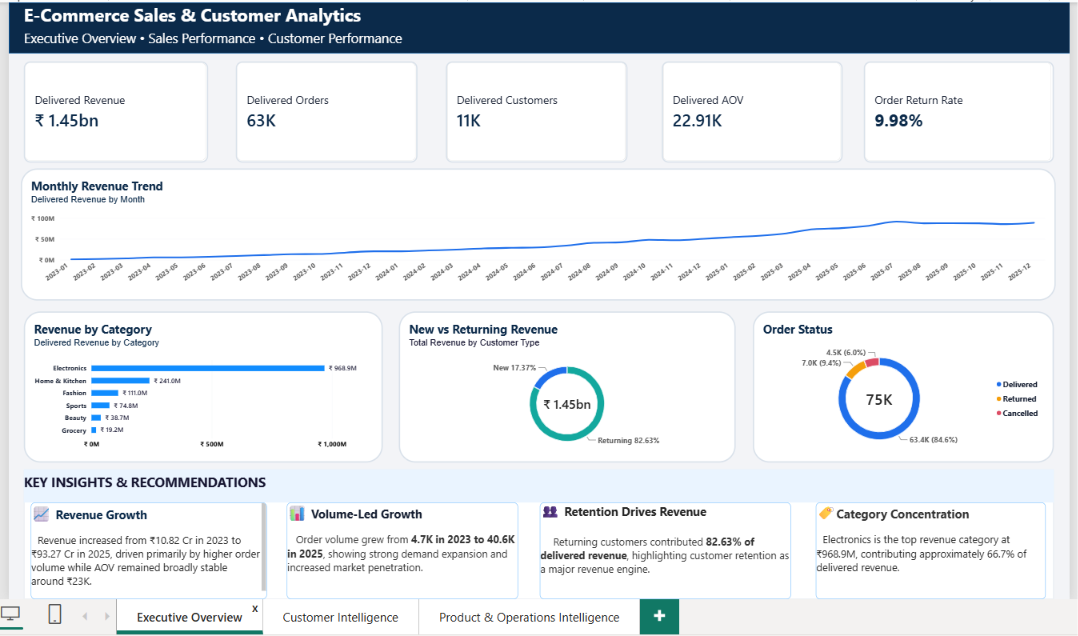

What the dashboard file says about the page in this screenshot:
{"tool":"powerbi","page":{"name":"Executive Overview","canvas":[1920,1080],"ordinal":0},"visuals":[{"type":"lineChart","title":"Monthly Revenue Trend","fields":{"Category":["DateTable.Year Month"],"Y":["public orders.Total Revenue"]},"box":[21.7,300.4,1873,238.9],"z":0},{"type":"clusteredBarChart","title":"Revenue by Category","fields":{"Category":["public products.category"],"Y":["public orders.Total Revenue"]},"box":[27.1,559.2,649.7,273.3],"z":1000},{"type":"donutChart","title":"New vs Returning Revenue","fields":{"Category":["public orders.Customer Type"],"Y":["public orders.Total Revenue"]},"box":[705.8,559.2,609.9,273.3],"z":2000},{"type":"donutChart","title":"Order Status","fields":{"Category":["public orders.order_status"],"Y":["CountNonNull(public orders.order_id)"]},"box":[1346.4,559.2,544.7,273.3],"z":3000},{"type":"cardVisual","fields":{"Data":["public orders.Total Revenue"]},"box":[26.6,106.6,333.3,183.3],"z":4000},{"type":"cardVisual","fields":{"Data":["public orders.Total Orders"]},"box":[410.5,106.6,329.1,183.3],"z":5000},{"type":"cardVisual","fields":{"Data":["public orders.Total Customers"]},"box":[790.1,106.6,329.1,183.3],"z":6000},{"type":"cardVisual","fields":{"Data":["public orders.Average Order Value"]},"box":[1181.7,106.8,327,183.3],"z":7000},{"type":"cardVisual","fields":{"Data":["public orders.Return Rate"]},"box":[1547.4,106.6,343.7,183.3],"z":8000},{"type":"shape","box":[0,0,1920.4,92.2],"z":9000},{"type":"textbox","box":[26.6,0,705,92.2],"z":10000},{"type":"shape","box":[27.1,845.1,1864,235.3],"z":11000},{"type":"textbox","box":[27.1,845.1,1864,59.7],"z":12000},{"type":"textbox","box":[39.8,904.8,360.1,175.5],"z":13000},{"type":"textbox","box":[39.8,904.8,427.1,175.5],"z":14000},{"type":"textbox","box":[503.1,904.8,418,175.5],"z":15000},{"type":"textbox","box":[1460.4,904.8,416.2,175.5],"z":16000},{"type":"textbox","box":[960.9,904.8,454.2,175.5],"z":17000}]}

Visuals, with their boxes on the page's 1920x1080 design canvas (x1, y1, x2, y2). These are canvas units, not pixel positions in the 1078x636 screenshot, which may show the page scaled, cropped or inside an application window:
"Monthly Revenue Trend" lineChart: box(22, 300, 1895, 539)
"Revenue by Category" clusteredBarChart: box(27, 559, 677, 832)
"New vs Returning Revenue" donutChart: box(706, 559, 1316, 832)
"Order Status" donutChart: box(1346, 559, 1891, 832)
cardVisual - public orders.Total Revenue: box(27, 107, 360, 290)
cardVisual - public orders.Total Orders: box(410, 107, 740, 290)
cardVisual - public orders.Total Customers: box(790, 107, 1119, 290)
cardVisual - public orders.Average Order Value: box(1182, 107, 1509, 290)
cardVisual - public orders.Return Rate: box(1547, 107, 1891, 290)
shape: box(0, 0, 1920, 92)
textbox: box(27, 0, 732, 92)
shape: box(27, 845, 1891, 1080)
textbox: box(27, 845, 1891, 905)
textbox: box(40, 905, 400, 1080)
textbox: box(40, 905, 467, 1080)
textbox: box(503, 905, 921, 1080)
textbox: box(1460, 905, 1877, 1080)
textbox: box(961, 905, 1415, 1080)
